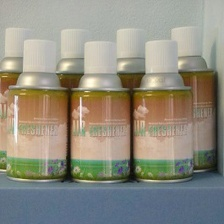aerosol_cans: (97, 19, 168, 176), (62, 37, 135, 186), (153, 19, 222, 176), (126, 35, 197, 187), (4, 36, 72, 187), (0, 18, 55, 178), (49, 20, 103, 176)
